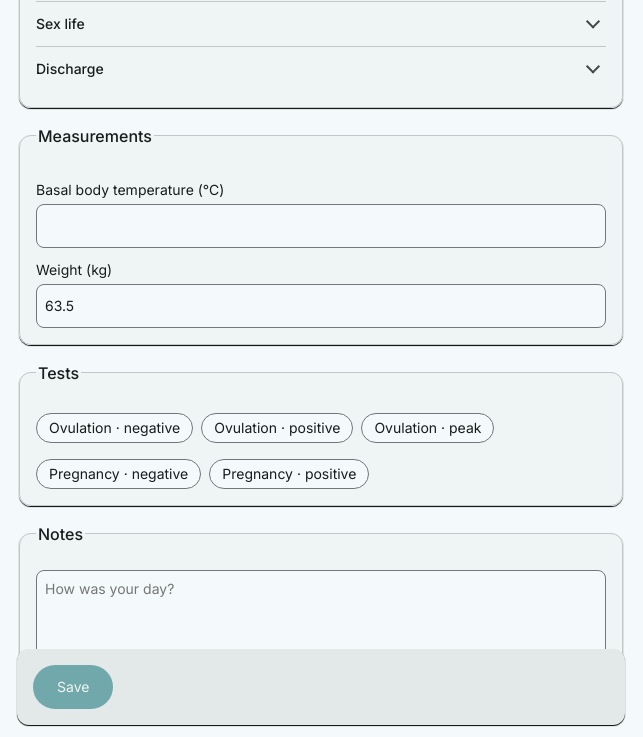
Test: DayPage (issue #1254) › a measurement-only save pushes no day_entries row (#1289)
The width and height of the screenshot is (643, 737).
(page scrolled)
Replace the text in the number field labelled "Weight (kg)" with "64" at (321, 306), box left=36, top=284, right=606, bottom=328
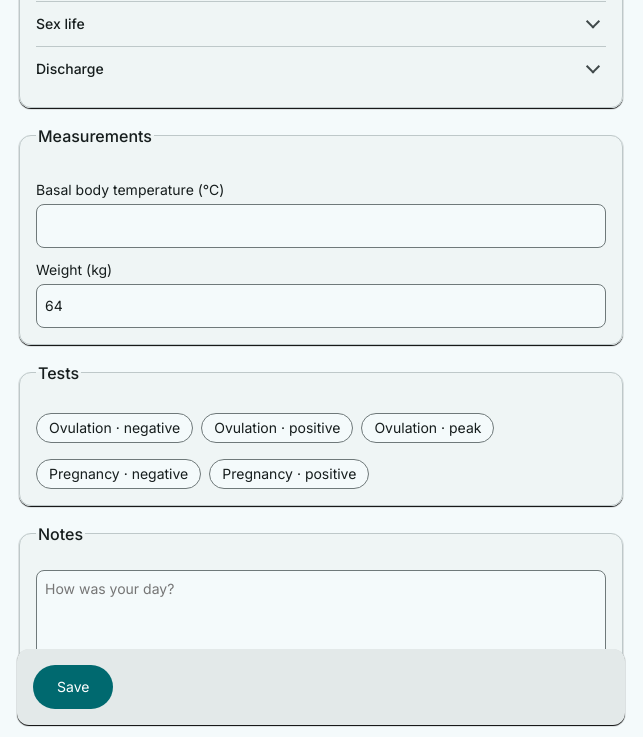
Click the button "Save" at (73, 687), box left=33, top=665, right=113, bottom=709
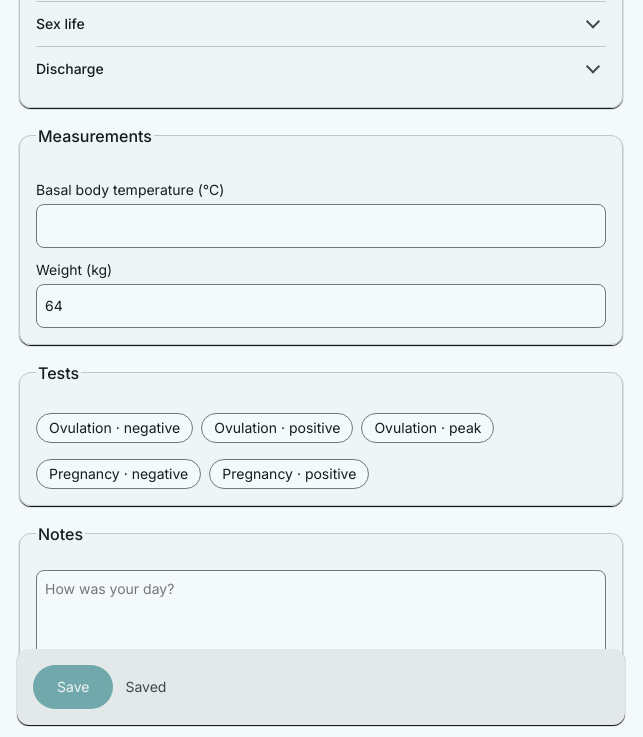
Expected: the text "Saved" is shown, left=125, top=677, right=166, bottom=697
